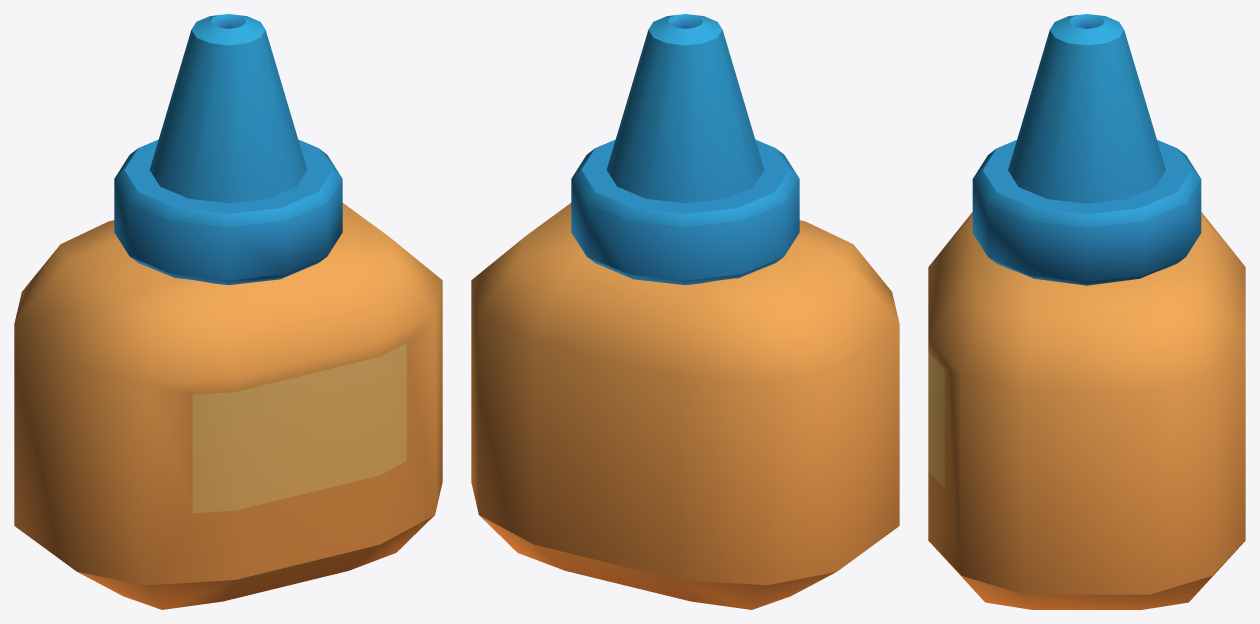
The model's file is Glue_B.obj.
3 renders of one model, left to right at view 1: azimuth 30°, elevation 25°; view 2: azimuth 150°, elevation 25°; view 3: azimuth 270°, elevation 25°, orthographic.
Visible parts, largest first — view 1: Glue_B; view 2: Glue_B; view 3: Glue_B.
Part boxes in pixels (x1,y1,x2,y2): Glue_B: (14,14,442,609); Glue_B: (471,14,899,609); Glue_B: (928,14,1245,609).
Size of the model in its own units: 0.3305 by 0.4517 by 0.2482.
1 material, 1 textured.
